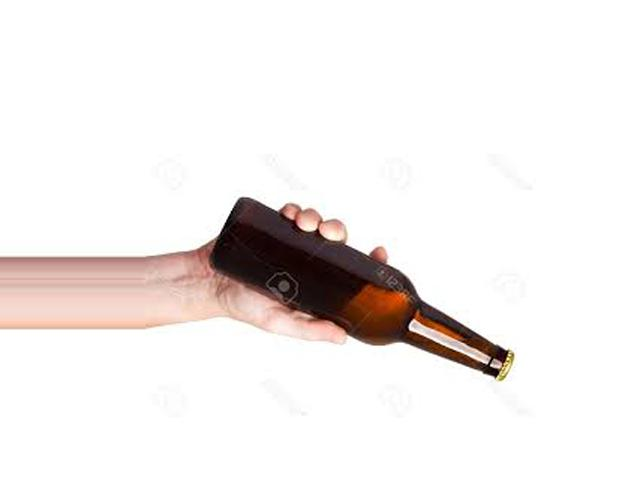beer: (210, 199, 513, 382)
